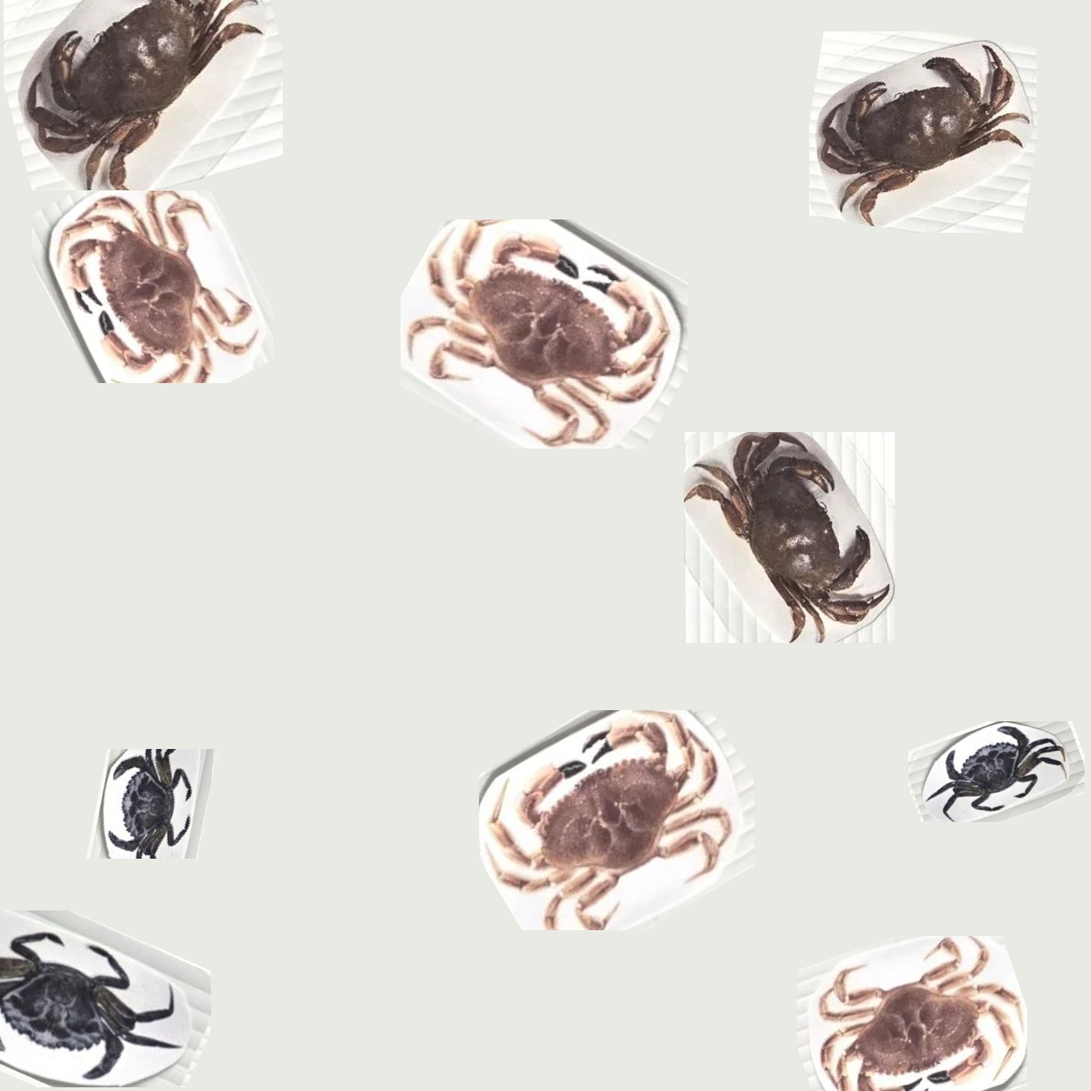evil: (6, 920, 208, 1069), (79, 735, 227, 886), (948, 718, 1077, 811)
normal: (412, 205, 673, 412), (471, 752, 757, 940), (31, 171, 255, 365), (670, 421, 881, 609), (45, 3, 283, 157), (833, 48, 1018, 236), (794, 942, 1021, 1085)
